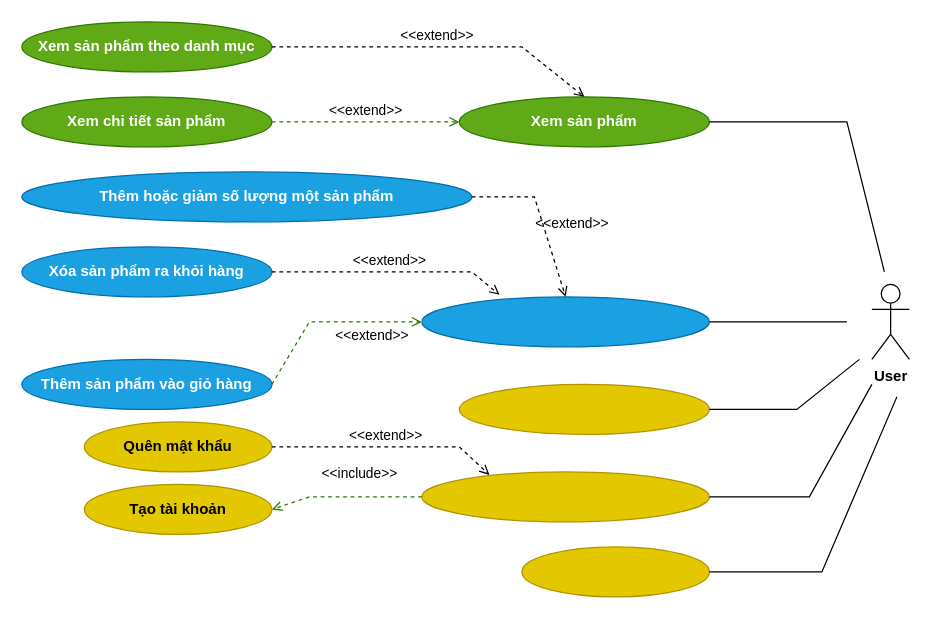
Some shapes in this 931 by 619 pixel diagram are drawn without their labels. The box of each missing label's shape, as (x1, y1, x2, y2) in pixels:
Cập nhật giỏ hàng: (421, 296, 709, 347)
Thanh toán: (458, 383, 709, 434)
Tìm kiếm: (521, 546, 709, 597)
Đăng nhập dưới quyền User: (421, 471, 709, 522)
